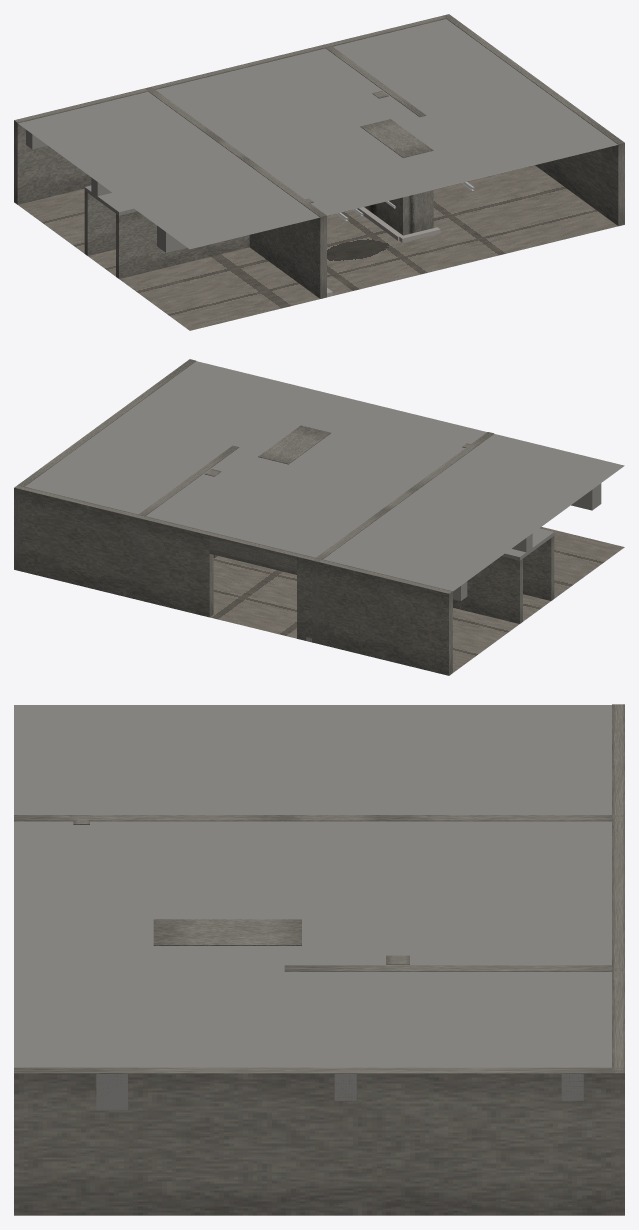
Rendered from north_corridor_ps2.glb.
3 views of the same model, one above another, from view 1: azimuth 30°, elevation 25°; view 2: azimuth 150°, elevation 25°; view 3: azimuth 270°, elevation 25° (orthographic). The views are drawn at different scales.
Visible parts, largest first — view 1: NorthCorridorCeiling, NorthCorridorFloor, EastOuterWall, LeftWall_South, NorthWall_West, PathsConn_WallS, Beam_Foreground, RightPier_Hero, Beam_Mid, Beam_North, PathsConn_WallN, NorthWall_East (+3 smaller); view 2: NorthCorridorCeiling, NorthWall_East, NorthWall_West, NorthCorridorFloor, Beam_Foreground, PathsConn_WallN, Beam_Mid, Beam_North, NorthWall_Header, EastOuterWall, PathsConn_WallS, RightPier_Hero (+4 smaller); view 3: NorthCorridorCeiling, EastOuterWall, Beam_Foreground, Beam_North, Beam_Mid, RightPier_Hero, NorthWall_East, RightWall_Back, LeftWall_South, NorthWall_West, LeftWall_North, NorthWall_Header.
Boxes of the visible parts, x1,y1,x2,y2 form: NorthCorridorCeiling: (18,19,617,249); NorthCorridorFloor: (18,165,617,330); EastOuterWall: (443,14,624,226); LeftWall_South: (243,159,326,298); NorthWall_West: (14,83,169,204); PathsConn_WallS: (116,210,249,278); Beam_Foreground: (157,121,594,252); RightPier_Hero: (360,119,433,235); Beam_Mid: (91,73,525,196); Beam_North: (26,25,460,149); PathsConn_WallN: (84,188,115,255); NorthWall_East: (253,14,451,64); NorthCorridorCeiling: (25,361,624,591); NorthWall_East: (14,485,213,617); NorthWall_West: (297,554,452,675); NorthCorridorFloor: (210,527,624,672); Beam_Foreground: (164,378,601,510); PathsConn_WallN: (453,554,522,623); Beam_Mid: (98,428,532,552); Beam_North: (33,476,467,600); NorthWall_Header: (209,533,299,574); EastOuterWall: (14,359,195,570); PathsConn_WallS: (523,536,554,600); RightPier_Hero: (258,425,330,464); NorthCorridorCeiling: (14,705,611,1067); EastOuterWall: (14,1067,624,1215); Beam_Foreground: (96,705,127,1110); Beam_North: (561,705,583,1100); Beam_Mid: (334,705,356,1100); RightPier_Hero: (153,919,301,945); NorthWall_East: (612,907,624,1215); RightWall_Back: (284,965,624,971); LeftWall_South: (14,815,280,821); NorthWall_West: (612,704,624,833); LeftWall_North: (376,815,624,821); NorthWall_Header: (612,833,624,907).
Bounding box in the file's own units: 20 × 3.6 × 14.
11 materials, 5 textured.
